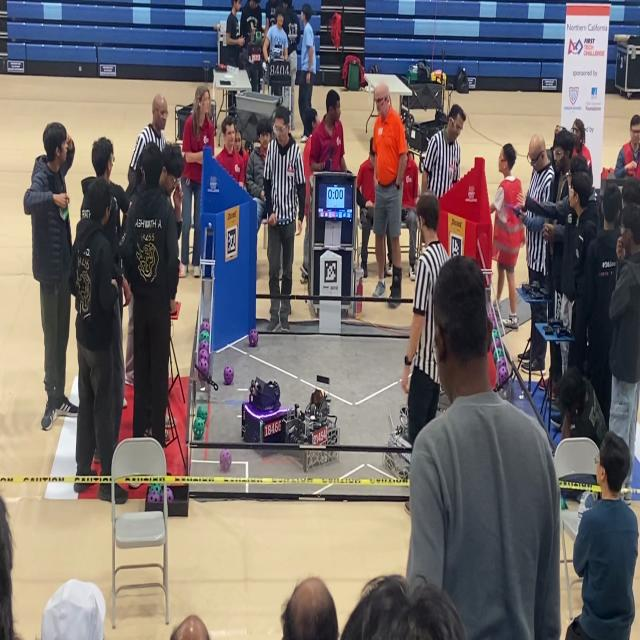artifact_green: (193, 418, 205, 439), (498, 360, 508, 385), (147, 490, 161, 503), (197, 405, 207, 420), (193, 418, 205, 430), (194, 417, 205, 430), (150, 483, 162, 493), (194, 430, 204, 440), (200, 320, 210, 330), (498, 357, 507, 368), (492, 329, 500, 341), (200, 331, 209, 341), (496, 348, 504, 359), (493, 349, 498, 363), (495, 339, 502, 347), (493, 320, 498, 329)
artifact_purple: (219, 449, 232, 472), (198, 358, 208, 378), (498, 366, 508, 385), (223, 366, 233, 385), (147, 489, 160, 503), (249, 329, 258, 347), (492, 347, 499, 367), (199, 341, 209, 352), (200, 320, 210, 331), (498, 356, 507, 368), (167, 488, 173, 503), (199, 350, 208, 359), (492, 329, 499, 340), (488, 308, 494, 320), (494, 339, 502, 347), (493, 320, 498, 329)
